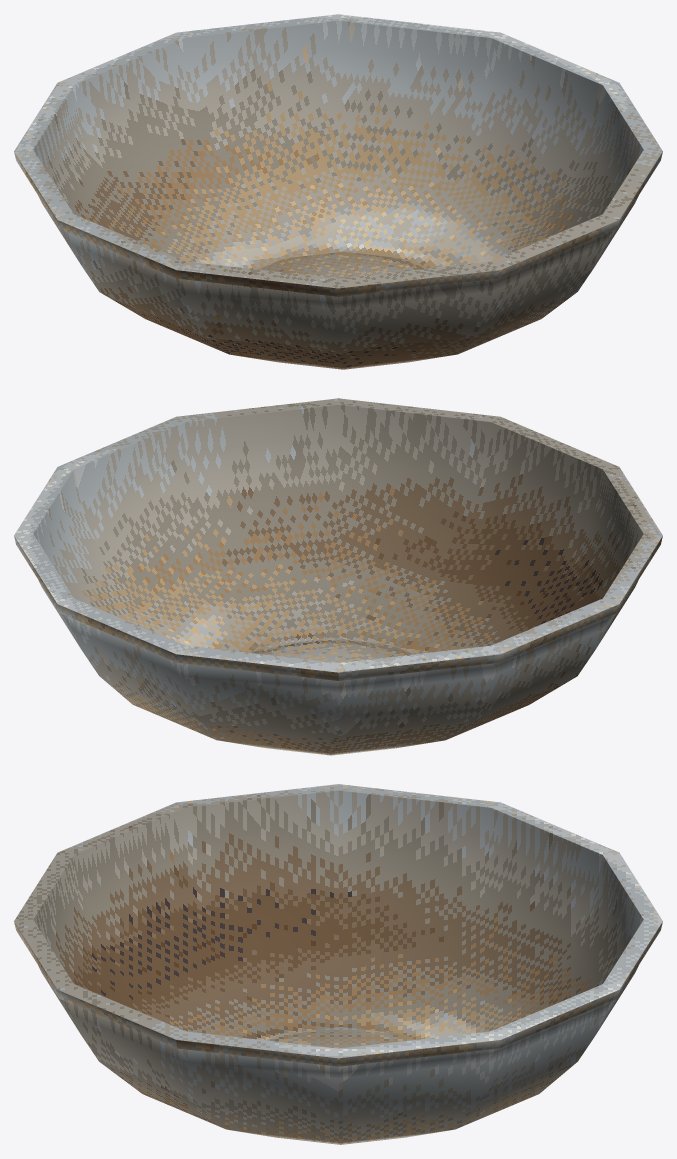
Rendered from retro_plate.glb.
3 renders of one model, top to bottom at view 1: azimuth 30°, elevation 25°; view 2: azimuth 150°, elevation 25°; view 3: azimuth 270°, elevation 25°, orthographic.
Visible parts, largest first — view 1: Circle; view 2: Circle; view 3: Circle.
Boxes of the visible parts, x1,y1,x2,y2 form: Circle: (14, 14, 662, 369); Circle: (14, 398, 662, 755); Circle: (14, 784, 662, 1144).
Size of the model in its own units: 0.25 by 0.0712 by 0.25.
Materials: 1 (1 with a texture image).
